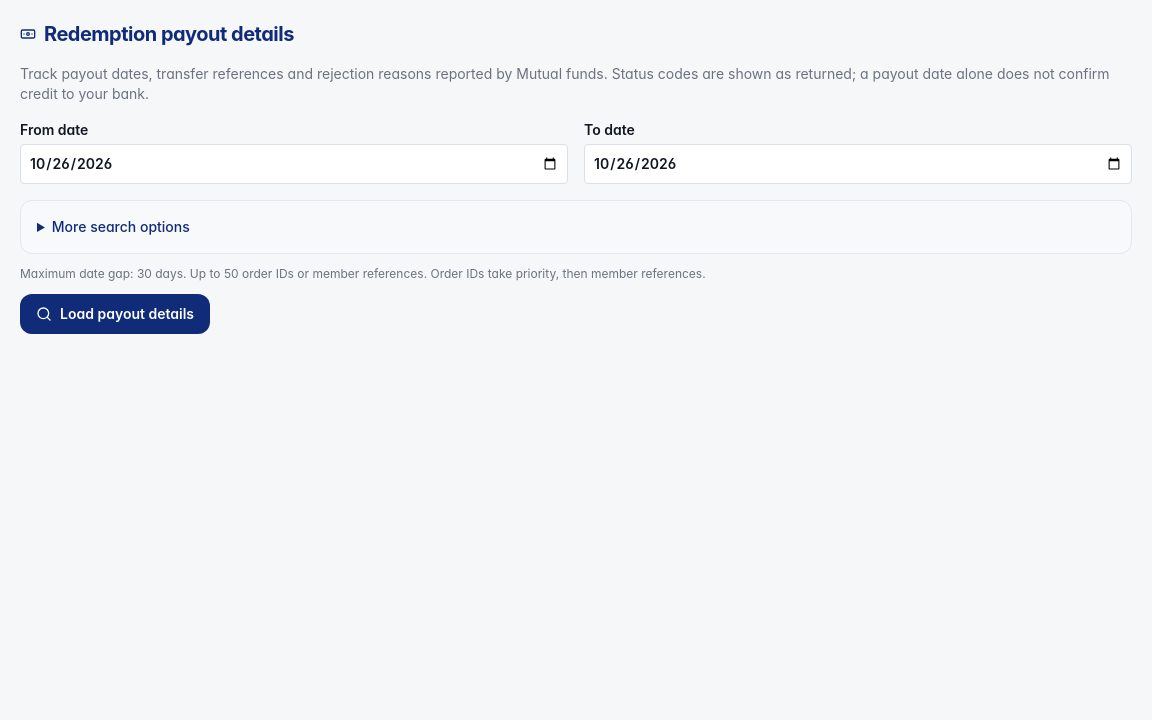
Test: shows raw payout status, dates and masked accounts without asserting completion
Click the button "Load payout details" at point(115, 314), box [20, 294, 210, 334]
(page scrolled)
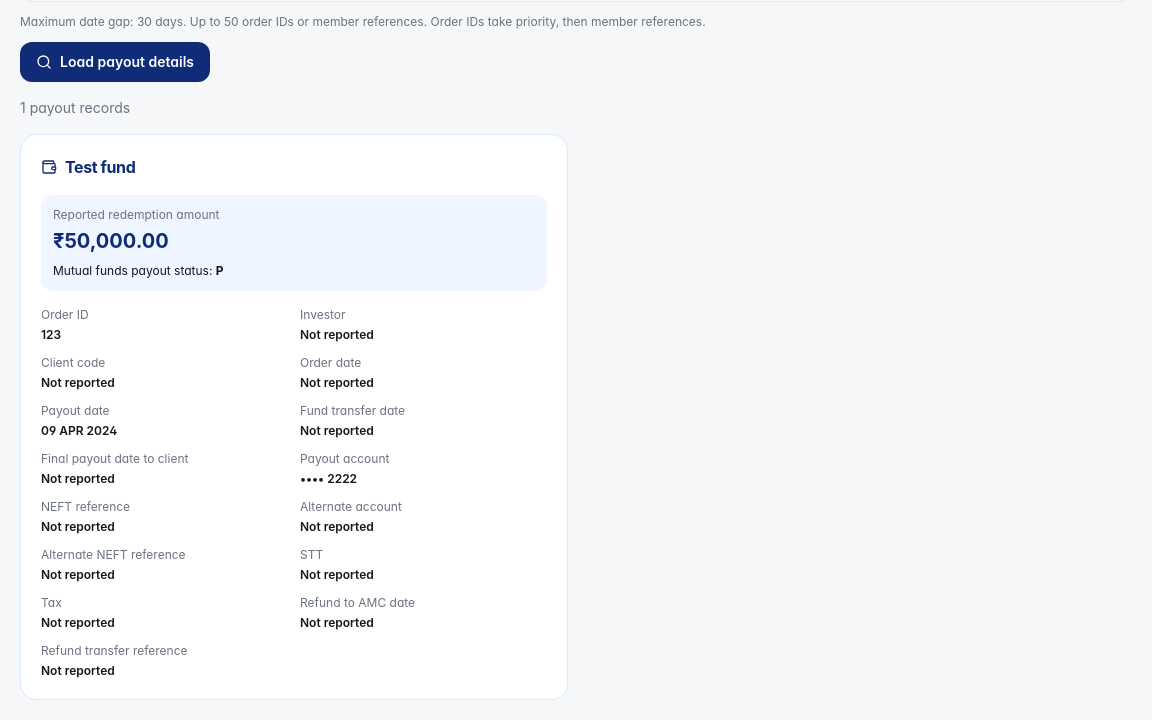
expect the heading "Test fund" is shown: met, box [41, 157, 135, 177]
expect the text "P" is shown: met, box [216, 263, 224, 278]
expect the text "•••• 2222" is shown: met, box [300, 471, 357, 486]
